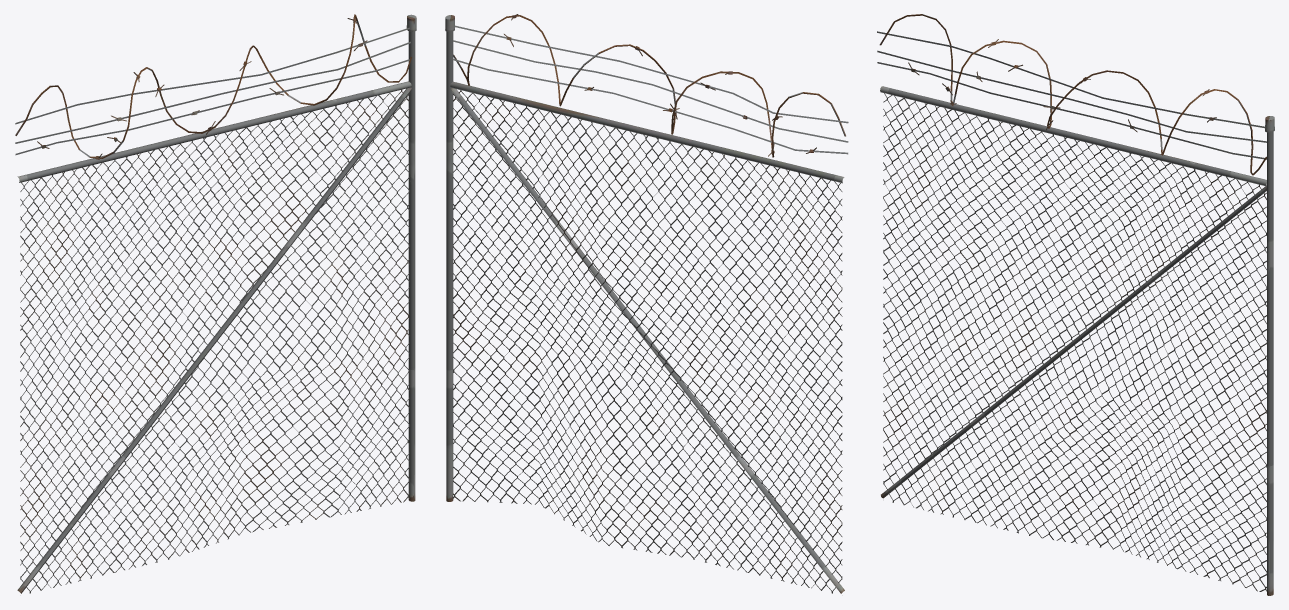
The picture shows the model from 3 angles, left to right: view 1: azimuth 30°, elevation 25°; view 2: azimuth 150°, elevation 25°; view 3: azimuth 330°, elevation 25°; orthographic projection.
Parts seen in each view (by area): view 1: body0_model0_lod0_mesh1, body0_model0_lod0_mesh0; view 2: body0_model0_lod0_mesh1, body0_model0_lod0_mesh0; view 3: body0_model0_lod0_mesh1, body0_model0_lod0_mesh0.
Part boxes in pixels (box(x1,y1,x2,y2)): body0_model0_lod0_mesh1: box(20, 89, 409, 593); body0_model0_lod0_mesh0: box(15, 14, 416, 593); body0_model0_lod0_mesh1: box(453, 90, 842, 593); body0_model0_lod0_mesh0: box(445, 14, 848, 593); body0_model0_lod0_mesh1: box(883, 93, 1266, 591); body0_model0_lod0_mesh0: box(877, 14, 1274, 595).
Bounding box in the file's own units: 16.16 × 19.15 × 2.36.
Materials: 2 (2 with a texture image).
